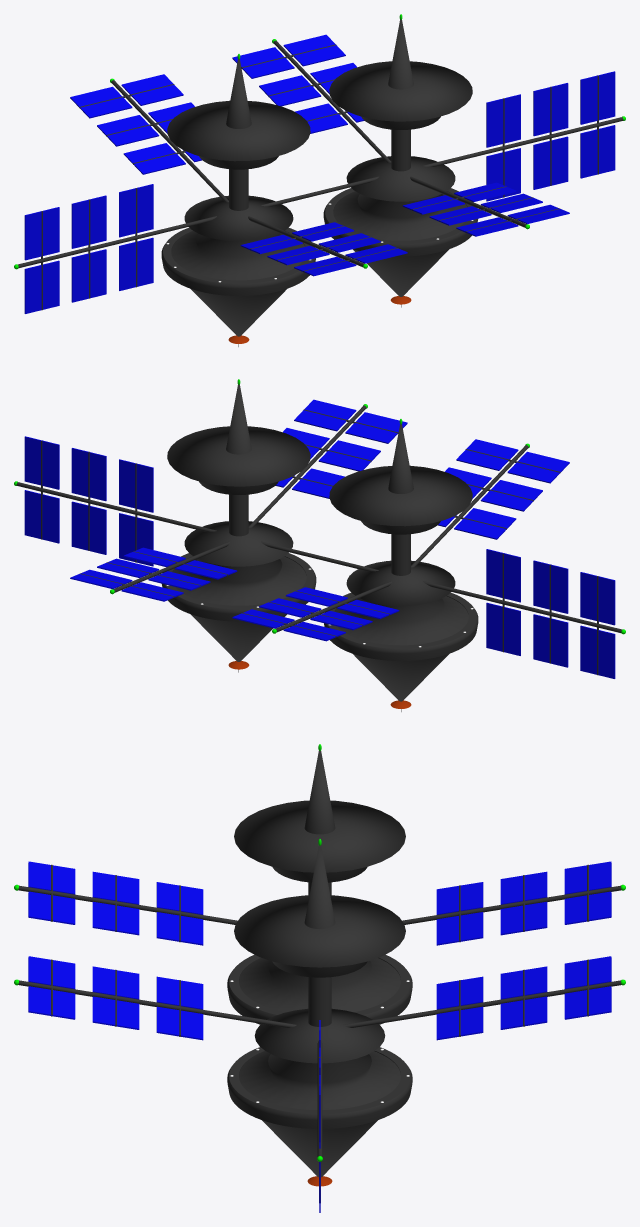
File: Doubledock.FBX
3 renders of one model, top to bottom at view 1: azimuth 30°, elevation 25°; view 2: azimuth 150°, elevation 25°; view 3: azimuth 270°, elevation 25°, orthographic. The views are drawn at different scales.
Parts seen in each view (by area): view 1: Doubledock; view 2: Doubledock; view 3: Doubledock.
Boxes of the visible parts, box(x1,y1,x2,y2) form: Doubledock: box(14, 14, 625, 346); Doubledock: box(14, 379, 625, 711); Doubledock: box(14, 744, 625, 1212).
Bounding box in the file's own units: 32.2 × 14.95 × 23.32.
